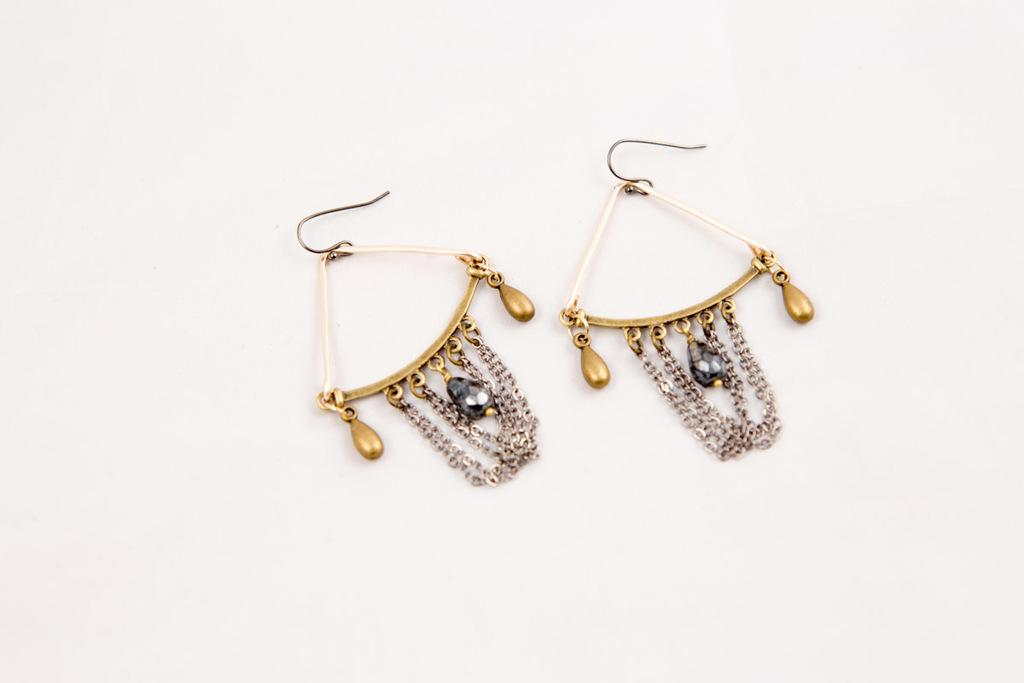earring: (562, 129, 810, 461), (291, 182, 540, 488)
